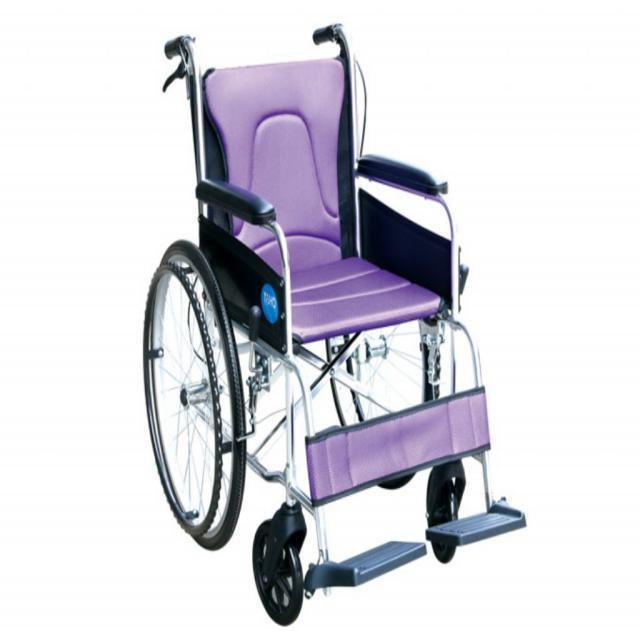wheelchairs: (142, 21, 524, 626)
